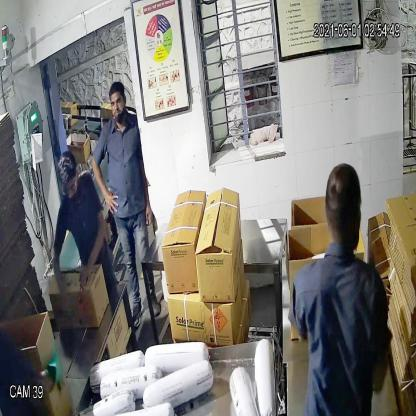no_goggles: (102, 91, 132, 114)
